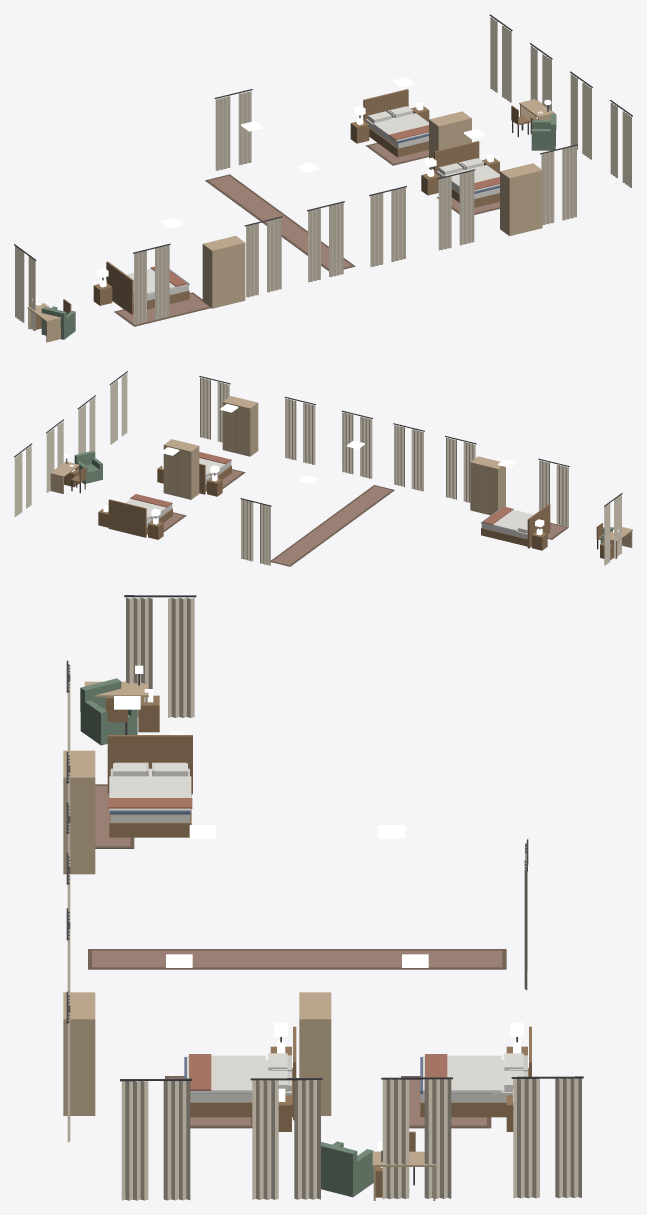
Rendered from fine-s2.glb.
3 views of the same model, one above another, from view 1: azimuth 30°, elevation 25°; view 2: azimuth 150°, elevation 25°; view 3: azimuth 270°, elevation 25° (orthographic). The views are drawn at different scales.
Parts seen in each view (by area): view 1: soft-s2, dresser.003, dresser.005, bed-frame.004, bed-frame.005, dresser.004, bed-frame.003, lounge-chair.003, lounge-chair.002, writing-desk.002, writing-desk.003; view 2: soft-s2, dresser.005, dresser.004, dresser.003, bed-frame.004, bed-frame.003, lounge-chair.003, writing-desk.003, bed-frame.005, writing-desk.002, nightstand.005, nightstand.006 (+1 smaller); view 3: soft-s2, bed-frame.003, dresser.005, dresser.003, dresser.004, lounge-chair.003, bed-frame.005, lounge-chair.002, bed-frame.004, side-table.002.
Boxes of the visible parts, x1=… form: soft-s2: x1=14, y1=14, x2=632, y2=331; dresser.003: x1=202, y1=236, x2=245, y2=308; dresser.005: x1=500, y1=163, x2=542, y2=236; bed-frame.004: x1=363, y1=89, x2=428, y2=157; bed-frame.005: x1=434, y1=141, x2=499, y2=207; dresser.004: x1=429, y1=111, x2=471, y2=169; bed-frame.003: x1=106, y1=261, x2=189, y2=314; lounge-chair.003: x1=531, y1=114, x2=556, y2=150; lounge-chair.002: x1=41, y1=306, x2=75, y2=339; writing-desk.002: x1=27, y1=296, x2=61, y2=342; writing-desk.003: x1=519, y1=99, x2=554, y2=124; soft-s2: x1=14, y1=371, x2=622, y2=566; dresser.005: x1=222, y1=396, x2=258, y2=456; dresser.004: x1=163, y1=439, x2=199, y2=499; dresser.003: x1=470, y1=456, x2=505, y2=515; bed-frame.004: x1=108, y1=499, x2=172, y2=537; bed-frame.003: x1=481, y1=504, x2=550, y2=548; lounge-chair.003: x1=74, y1=451, x2=102, y2=483; writing-desk.003: x1=50, y1=454, x2=79, y2=493; bed-frame.005: x1=199, y1=460, x2=231, y2=494; writing-desk.002: x1=603, y1=527, x2=632, y2=558; nightstand.005: x1=532, y1=528, x2=547, y2=550; nightstand.006: x1=148, y1=517, x2=163, y2=539; soft-s2: x1=66, y1=595, x2=583, y2=1200; bed-frame.003: x1=107, y1=735, x2=192, y2=837; dresser.005: x1=63, y1=992, x2=95, y2=1115; dresser.003: x1=63, y1=750, x2=95, y2=874; dresser.004: x1=299, y1=992, x2=331, y2=1115; lounge-chair.003: x1=321, y1=1141, x2=373, y2=1197; bed-frame.005: x1=184, y1=1026, x2=296, y2=1120; lounge-chair.002: x1=80, y1=678, x2=137, y2=745; bed-frame.004: x1=420, y1=1026, x2=531, y2=1117; side-table.002: x1=138, y1=689, x2=159, y2=732.
Size of the model in its own units: 21.56 by 2.68 by 9.77.
